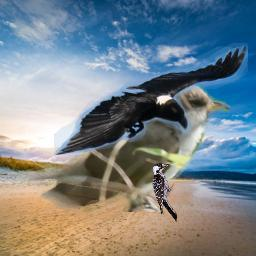Crow: (54, 43, 248, 155)
Cuckoo: (16, 82, 230, 212)
Woodpecker: (152, 163, 177, 222)
